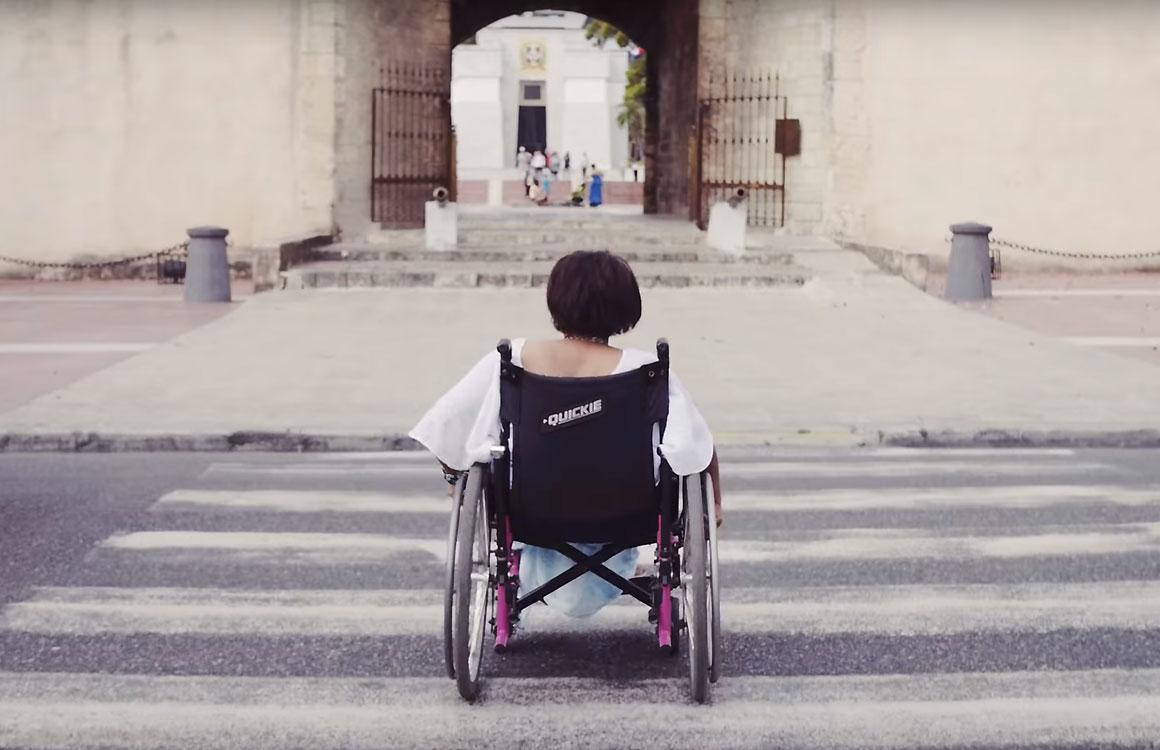wheelchair: (408, 249, 723, 700)
